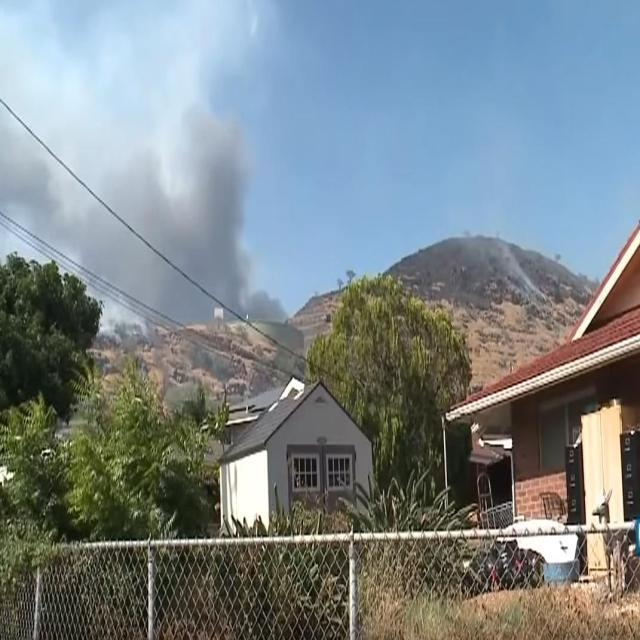Smoke: (2, 47, 316, 360)
